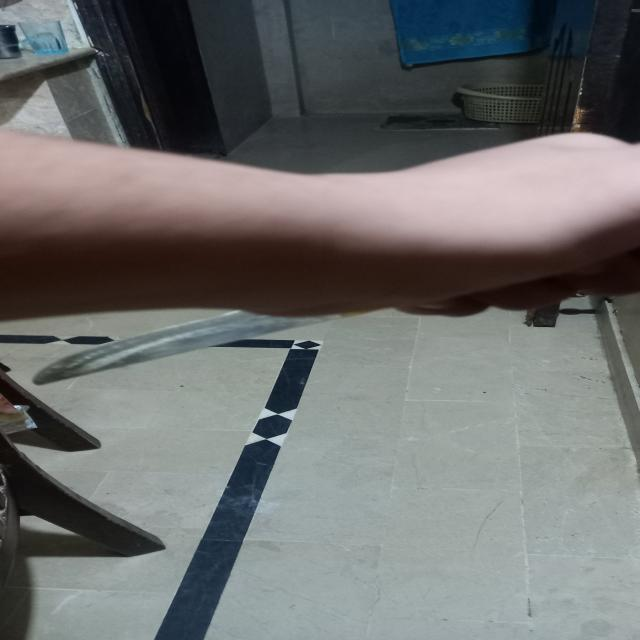knife: (25, 308, 350, 390)
